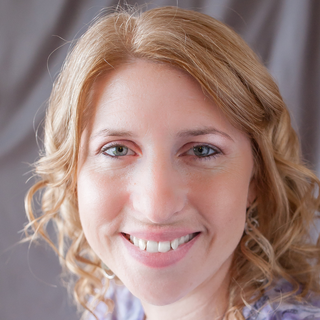eye: (172, 138, 227, 164), (95, 139, 144, 161)
